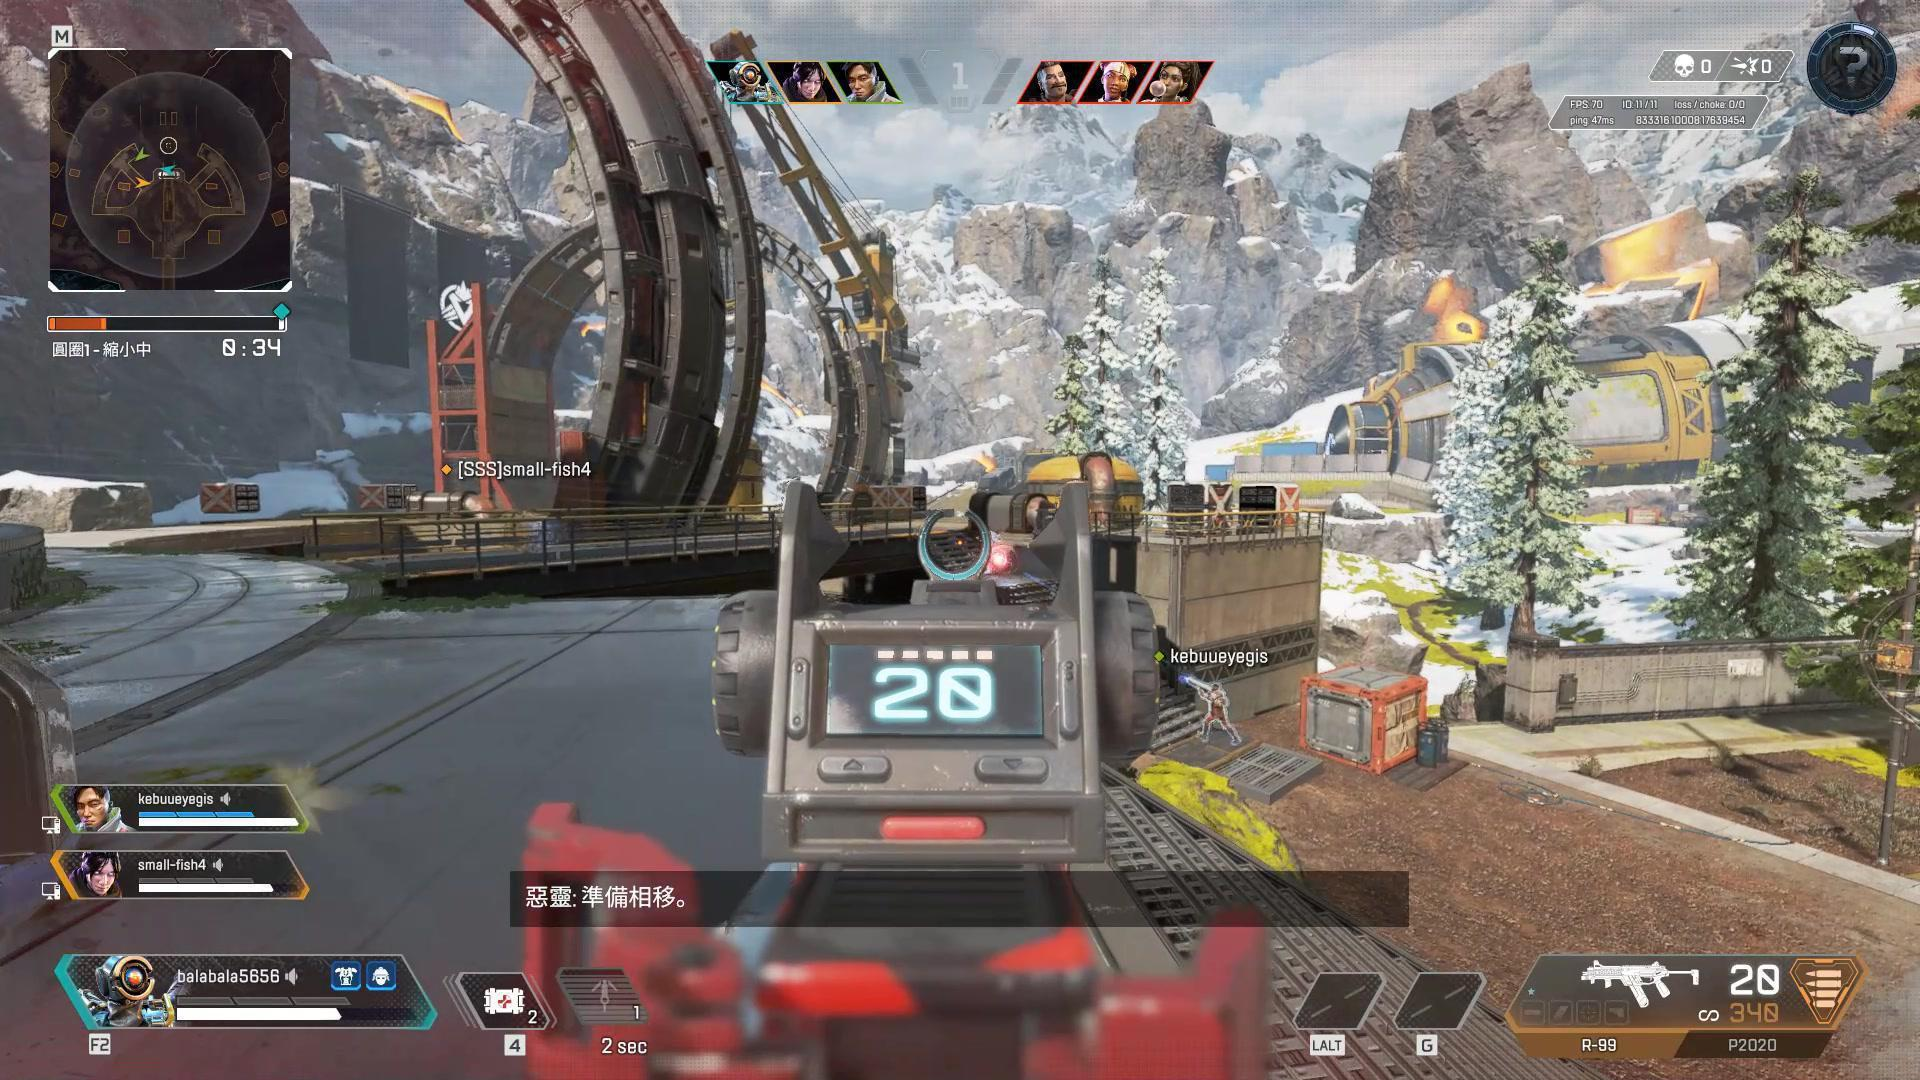avatar: (1195, 677, 1243, 747)
